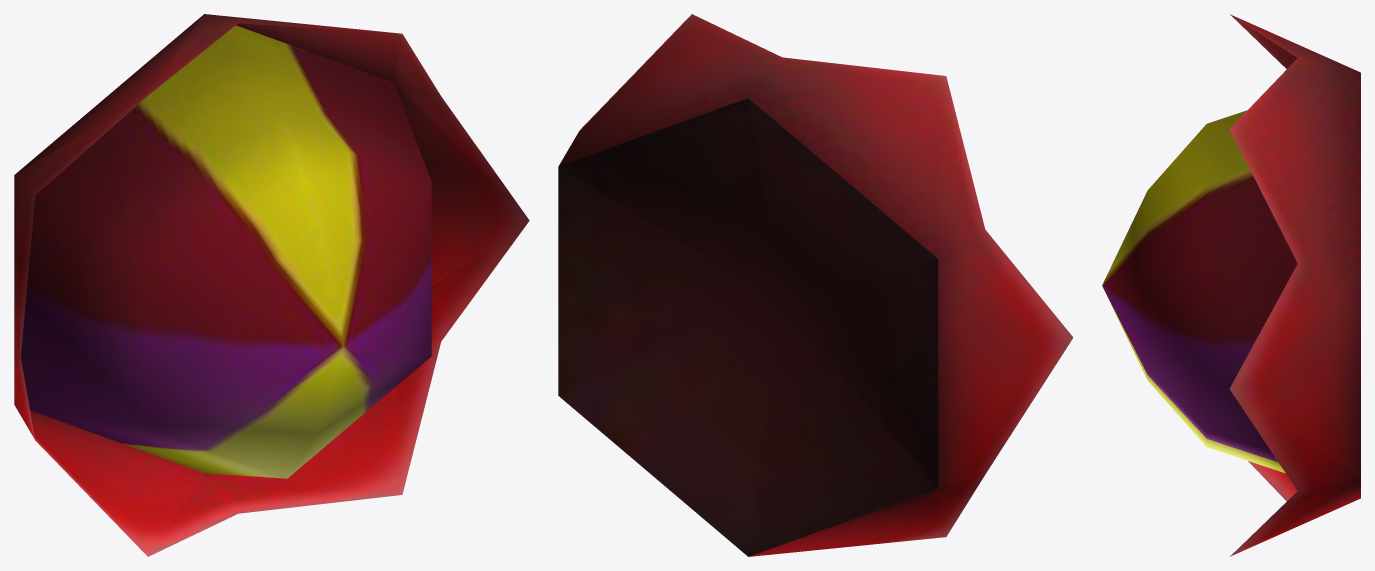
File: tt_m_chr_avt_acc_hat_jugheadHat.glb
3 views of the same model, side by side, from view 1: azimuth 30°, elevation 25°; view 2: azimuth 150°, elevation 25°; view 3: azimuth 270°, elevation 25° (orthographic). The views are drawn at different scales.
Parts seen in each view (by area): view 1: tt_m_chr_avt_acc_hat_jugheadhat; view 2: tt_m_chr_avt_acc_hat_jugheadhat; view 3: tt_m_chr_avt_acc_hat_jugheadhat.
Boxes of the visible parts, x1,y1,x2,y2 form: tt_m_chr_avt_acc_hat_jugheadhat: [14, 14, 529, 556]; tt_m_chr_avt_acc_hat_jugheadhat: [558, 14, 1073, 556]; tt_m_chr_avt_acc_hat_jugheadhat: [1102, 14, 1360, 556].
Bounding box in the file's own units: 5.41 × 4.99 × 2.57.
1 material, 1 textured.
